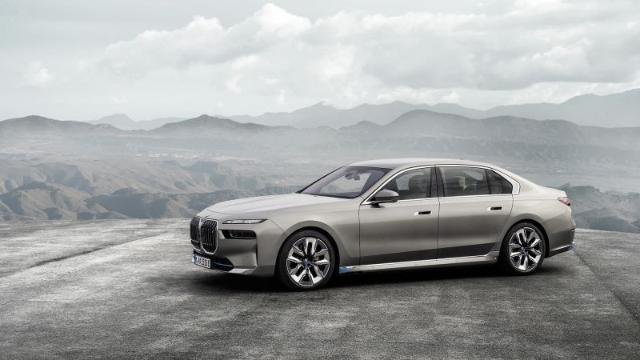bmw: (190, 158, 576, 290)
